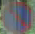No parking: (1, 1, 34, 32)
